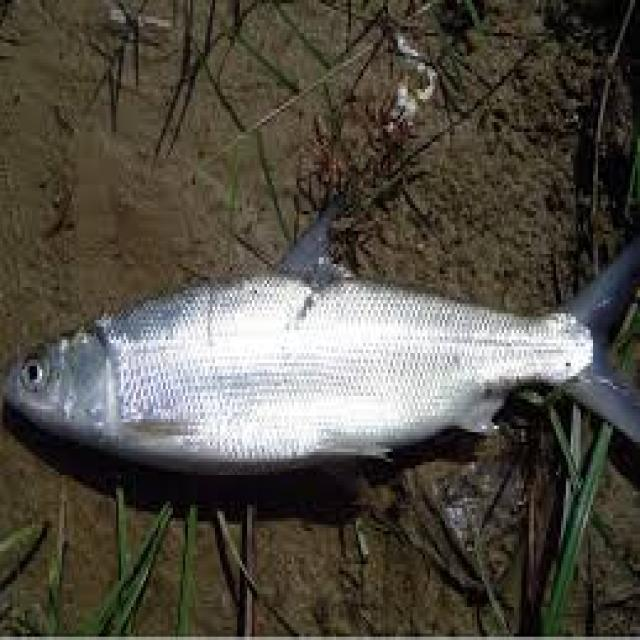Bangus: (13, 204, 640, 524)
